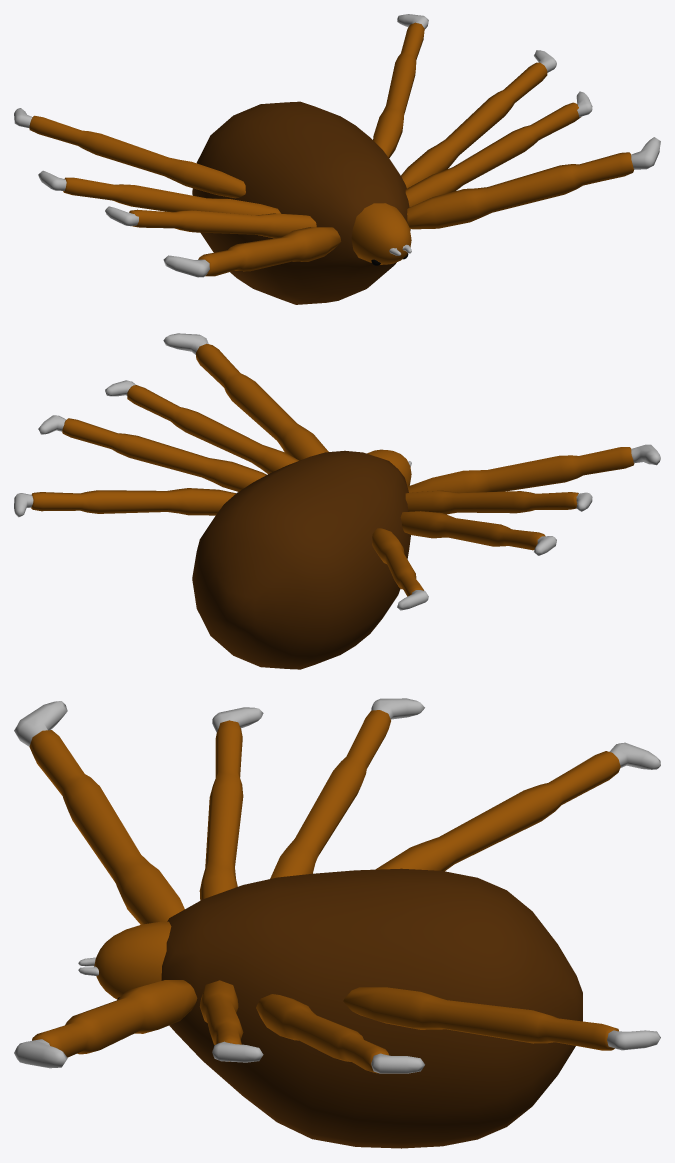
Rendered from TickIdle.fbx.
3 views of the same model, one above another, from view 1: azimuth 30°, elevation 25°; view 2: azimuth 150°, elevation 25°; view 3: azimuth 270°, elevation 25° (orthographic). The views are drawn at different scales.
Parts seen in each view (by area): view 1: polySurface22, polySurface6, polySurface3, polySurface8, polySurface14, polySurface9, polySurface16, polySurface12, polySurface2, polySurface17; view 2: polySurface22, polySurface8, polySurface6, polySurface9, polySurface2, polySurface14, polySurface16, polySurface12, polySurface3, polySurface17; view 3: polySurface22, polySurface8, polySurface2, polySurface3, polySurface6, polySurface12, polySurface16, polySurface9, polySurface17, polySurface14.
Boxes of the visible parts, <box> form: polySurface22: <box>192,101,410,304</box>; polySurface6: <box>407,137,660,229</box>; polySurface3: <box>14,108,245,198</box>; polySurface8: <box>163,227,341,277</box>; polySurface14: <box>405,91,592,207</box>; polySurface9: <box>401,50,556,188</box>; polySurface16: <box>105,206,316,238</box>; polySurface12: <box>38,170,280,215</box>; polySurface2: <box>373,14,428,158</box>; polySurface17: <box>351,203,411,265</box>; polySurface22: <box>192,450,410,669</box>; polySurface8: <box>407,444,660,492</box>; polySurface6: <box>163,333,328,460</box>; polySurface9: <box>38,415,266,491</box>; polySurface2: <box>14,488,235,517</box>; polySurface14: <box>105,380,298,474</box>; polySurface16: <box>405,490,592,514</box>; polySurface12: <box>400,511,556,555</box>; polySurface3: <box>372,528,428,610</box>; polySurface17: <box>367,449,411,486</box>; polySurface22: <box>161,868,582,1148</box>; polySurface8: <box>14,701,184,924</box>; polySurface2: <box>343,987,660,1050</box>; polySurface3: <box>375,742,660,871</box>; polySurface6: <box>14,980,197,1068</box>; polySurface12: <box>270,698,424,878</box>; polySurface16: <box>199,707,263,900</box>; polySurface9: <box>256,994,424,1073</box>; polySurface17: <box>94,921,171,999</box>; polySurface14: <box>199,980,263,1062</box>.
Bounding box in the file's own units: 9.62 × 3.17 × 7.22.
